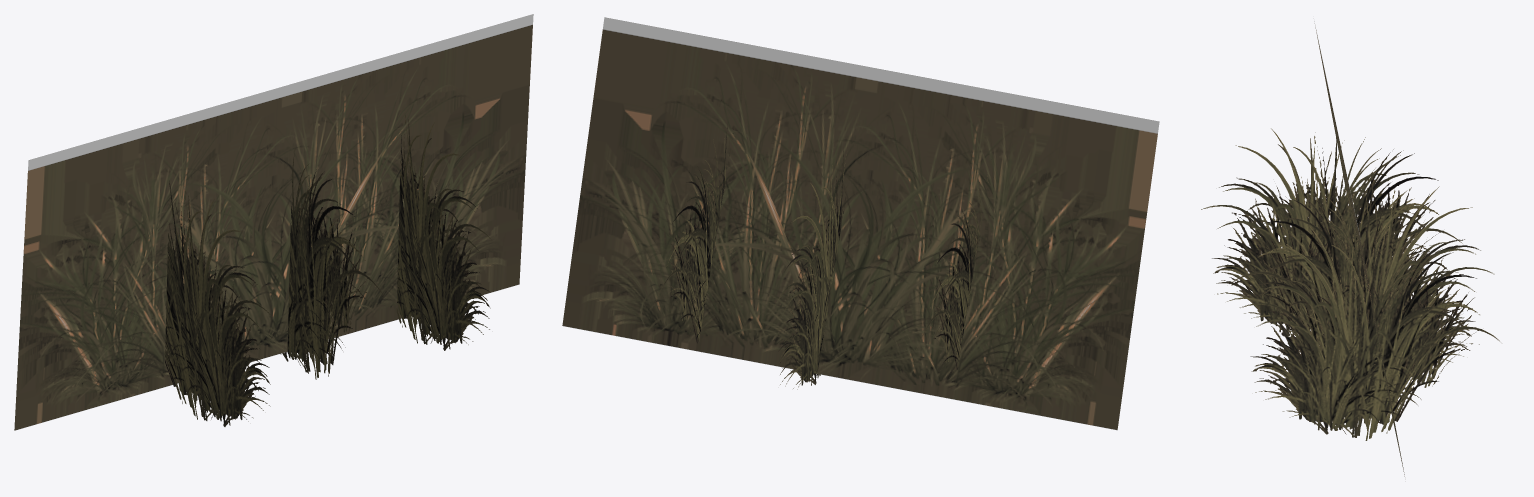
Rendered from Bush02.fbx.
The picture shows the model from 3 angles, left to right: view 1: azimuth 30°, elevation 25°; view 2: azimuth 150°, elevation 25°; view 3: azimuth 270°, elevation 25°; orthographic projection. The views are drawn at different scales.
Parts seen in each view (by area): view 1: Bush02; view 2: Bush02; view 3: Bush02.
Boxes of the visible parts, x1,y1,x2,y2 form: Bush02: [14, 14, 533, 430]; Bush02: [562, 17, 1159, 430]; Bush02: [1201, 18, 1499, 476].
Bounding box in the file's own units: 71887 × 42890 × 45501.
